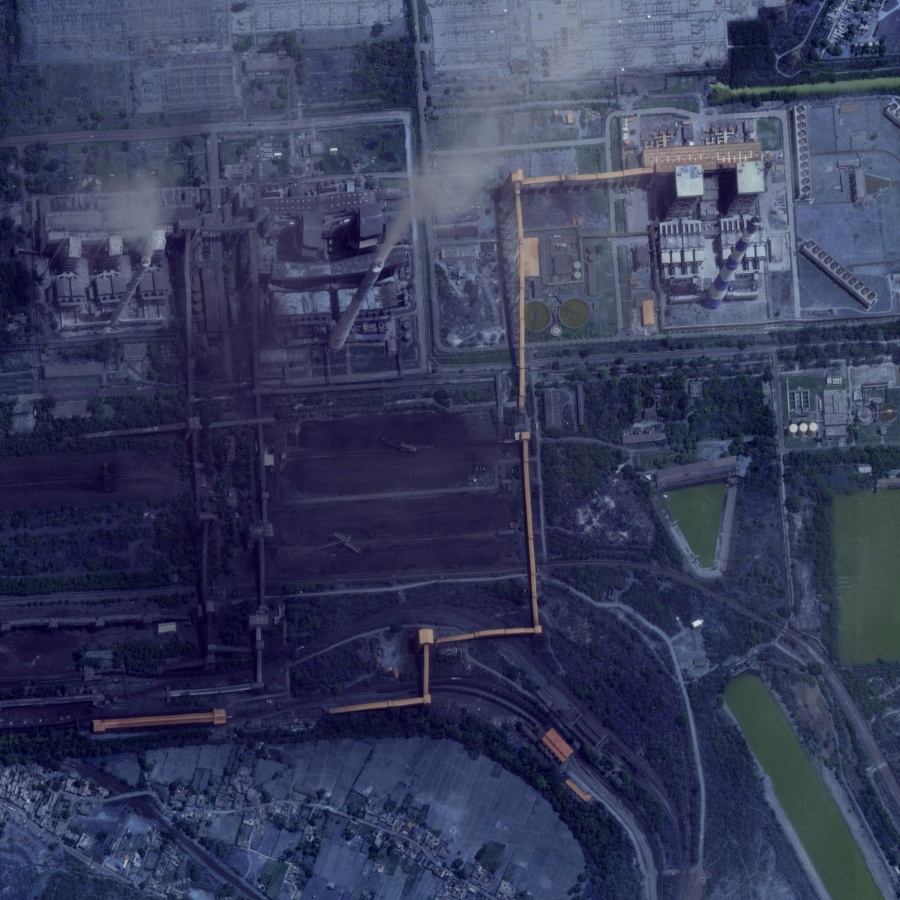PowerPlant: (652, 143, 776, 323)
